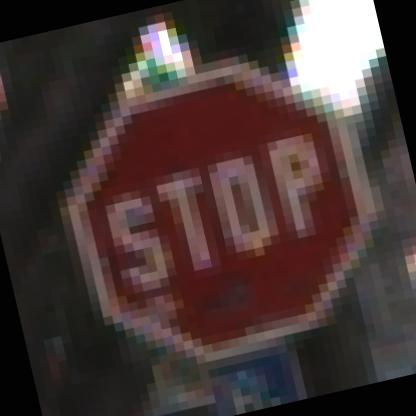stop: (29, 28, 403, 398)
